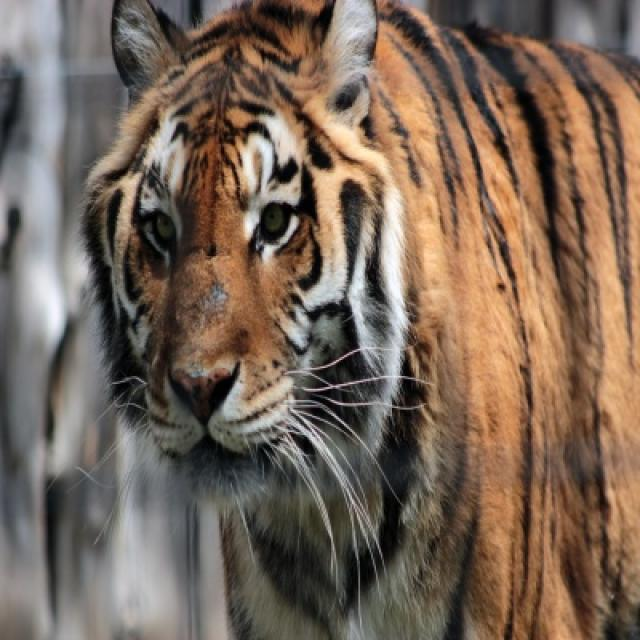Tiger: (82, 0, 638, 636)
